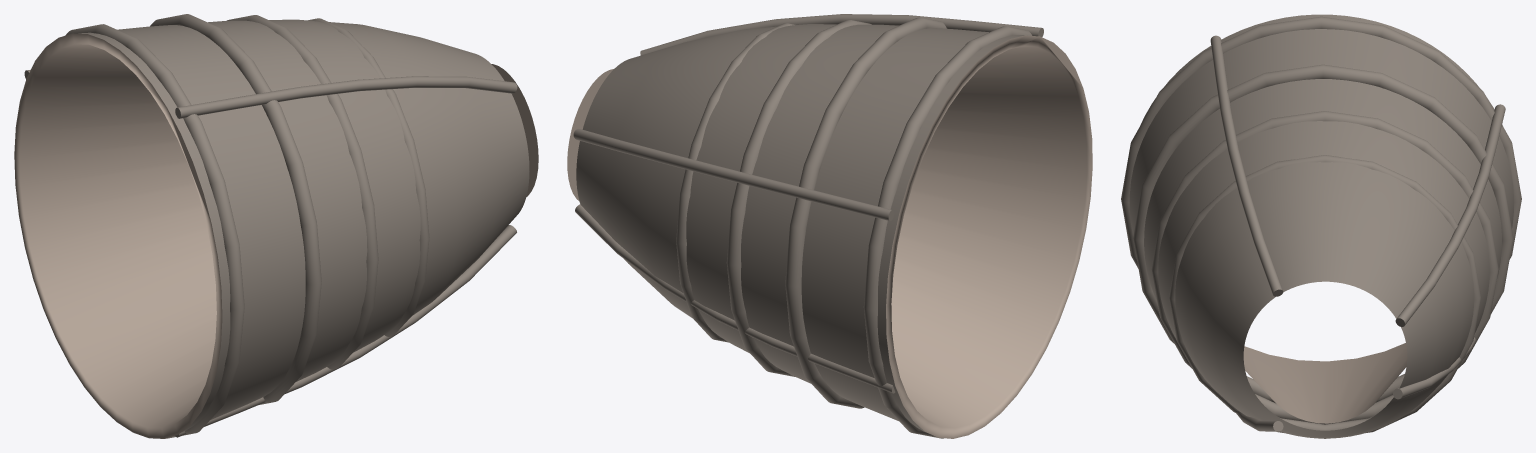
File: shuttle-rcs.glb
3 views of the same model, side by side, from view 1: azimuth 30°, elevation 25°; view 2: azimuth 150°, elevation 25°; view 3: azimuth 270°, elevation 25° (orthographic). The views are drawn at different scales.
Visible parts, largest first — view 1: rcs.layer1; view 2: rcs.layer1; view 3: rcs.layer1.
Part boxes in pixels (box(x1,y1,x2,y2)): rcs.layer1: box(14, 14, 538, 438); rcs.layer1: box(567, 14, 1092, 438); rcs.layer1: box(1121, 14, 1521, 438).
Size of the model in its own units: 51.28 by 48.5 by 48.5.
